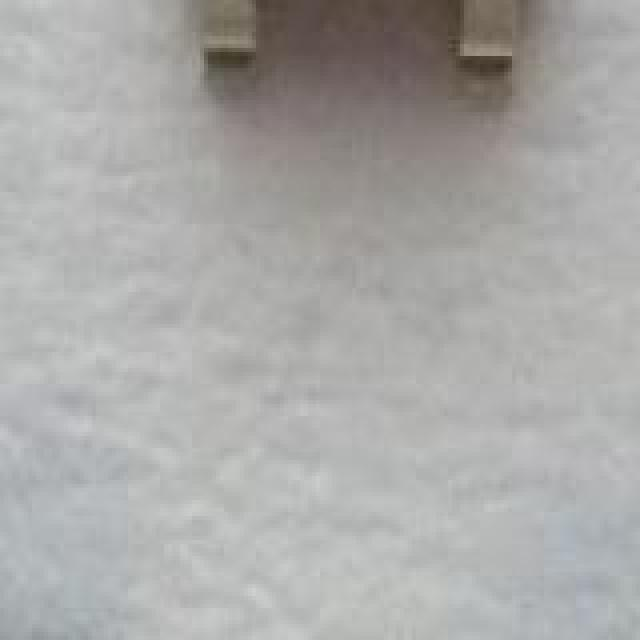transistor: (136, 0, 576, 80), (0, 528, 156, 640), (492, 532, 640, 640)
